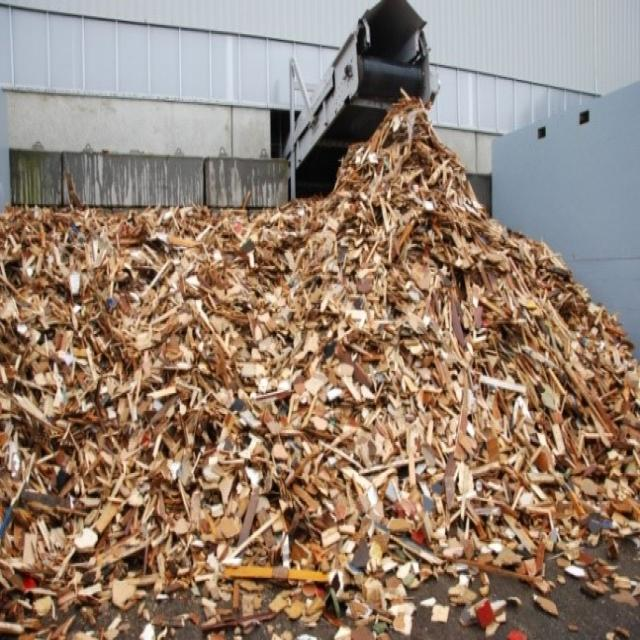green waste: (1, 112, 633, 631)
